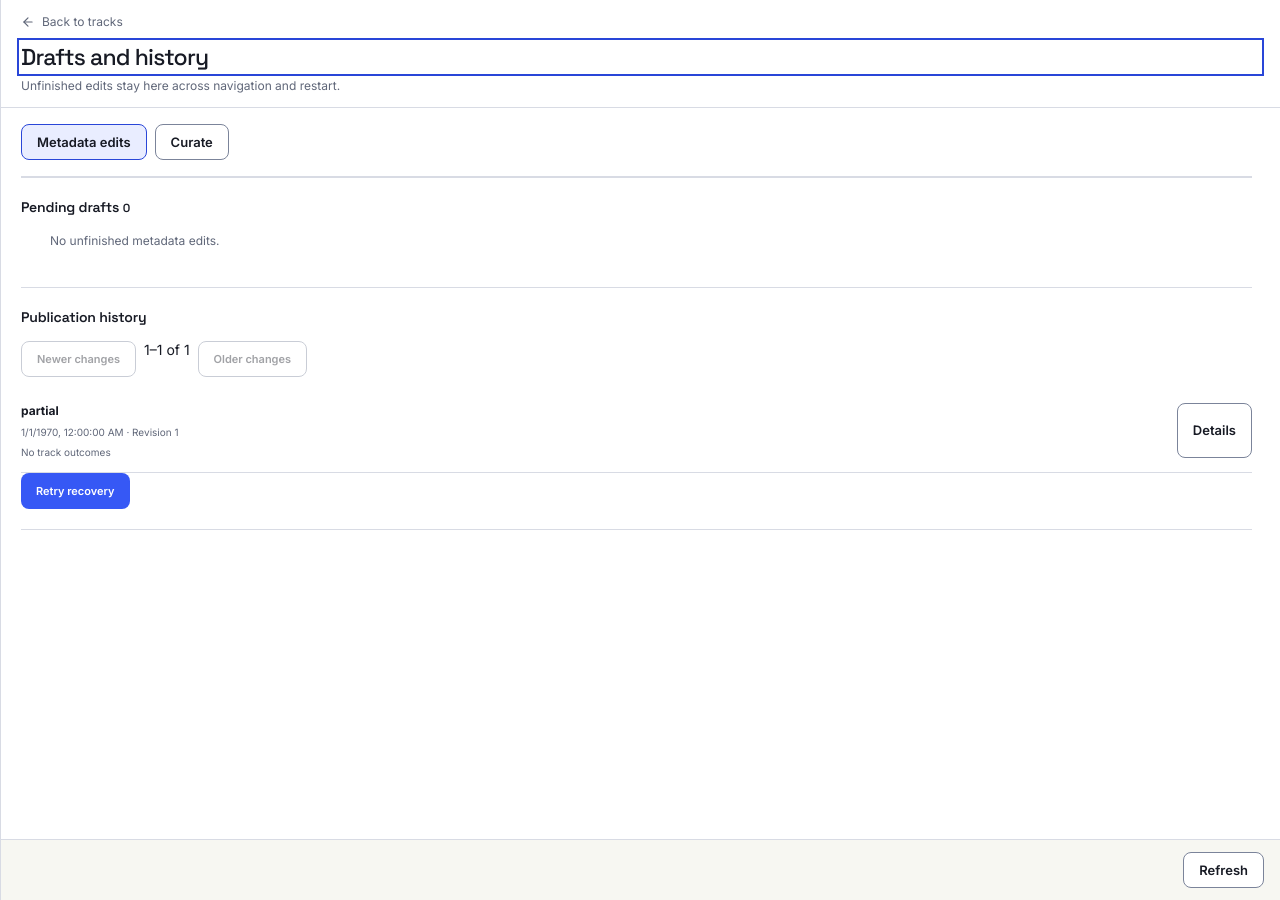
Test: paged metadata history › refreshes durable partial history after a failed recovery and retains the original failure
Click the button "Retry recovery" at (75, 491), box [21, 473, 130, 509]
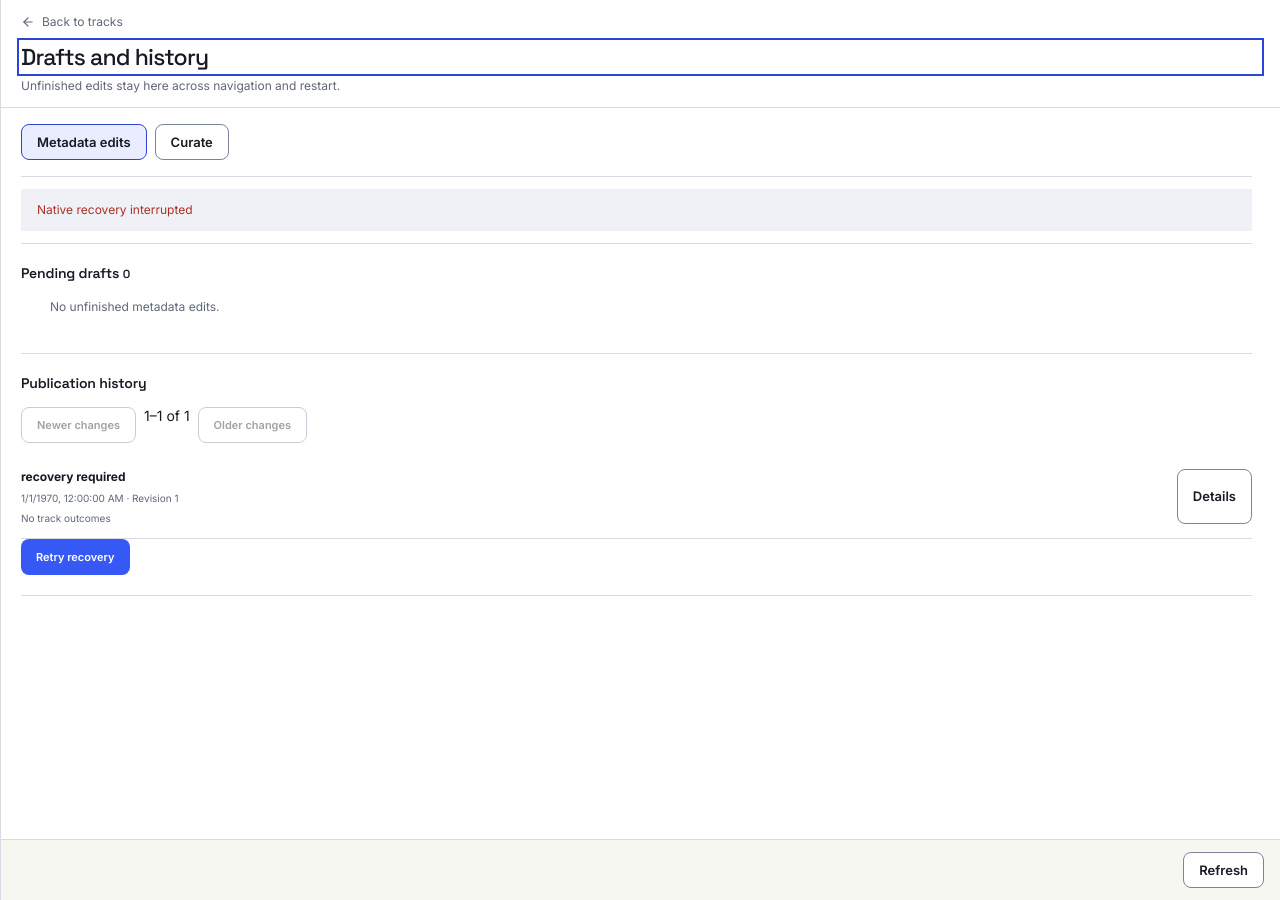
Now the text "Native recovery interrupted" is shown, box [21, 188, 1252, 230]
Now the text "recovery required" is shown, box [21, 469, 126, 484]
